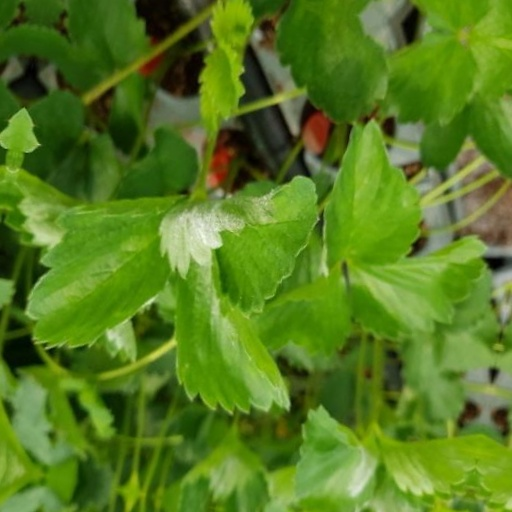Powdery Mildew Leaf: (336, 123, 474, 302), (201, 193, 358, 344), (193, 96, 330, 252)
